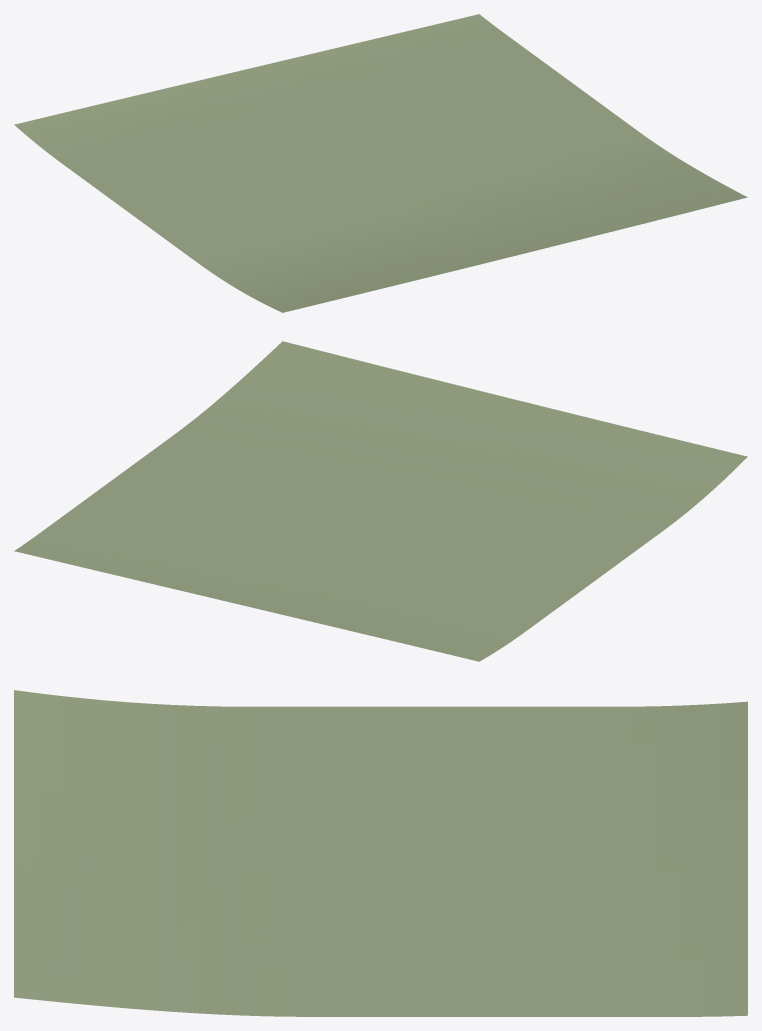
The model's file is valley-3-8.glb.
3 views of the same model, one above another, from view 1: azimuth 30°, elevation 25°; view 2: azimuth 150°, elevation 25°; view 3: azimuth 270°, elevation 25° (orthographic). The views are drawn at different scales.
Visible parts, largest first — view 1: valley-3-8; view 2: valley-3-8; view 3: valley-3-8.
Part boxes in pixels (<box>): valley-3-8: <box>14,14,747,312</box>; valley-3-8: <box>14,341,747,661</box>; valley-3-8: <box>14,690,747,1016</box>.
Bounding box in the file's own units: 256 × 7.44 × 256.
